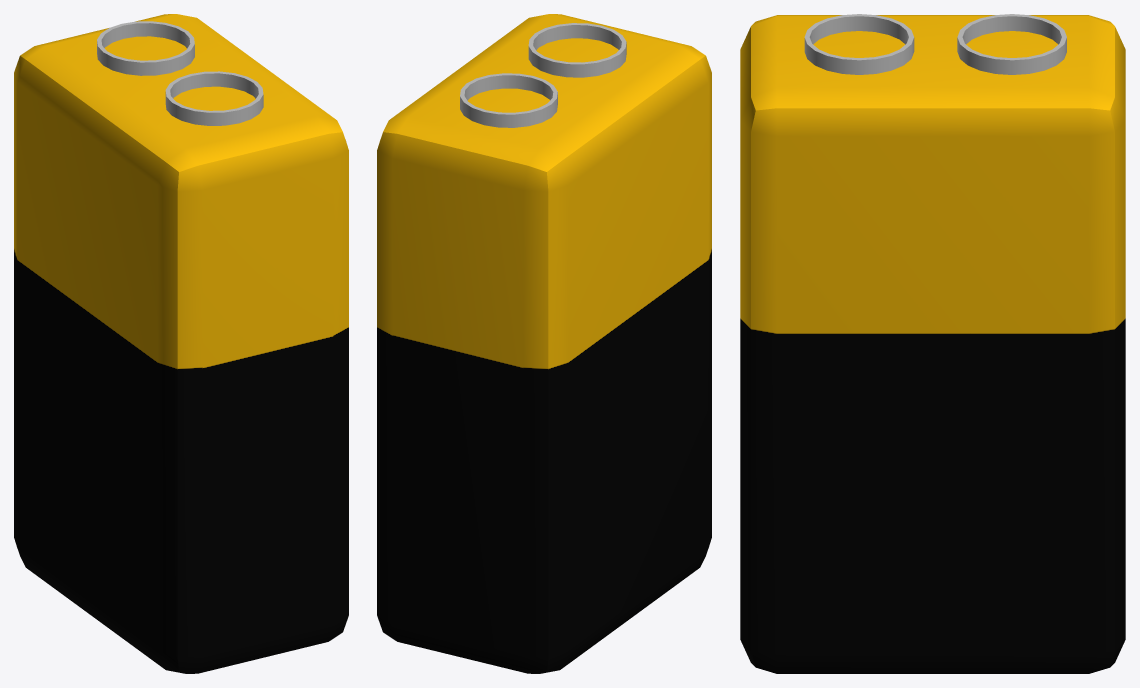
Rendered from battery.fbx.
The picture shows the model from 3 angles, left to right: view 1: azimuth 30°, elevation 25°; view 2: azimuth 150°, elevation 25°; view 3: azimuth 270°, elevation 25°; orthographic projection. The views are drawn at different scales.
Visible parts, largest first — view 1: polySurface3, polySurface1, polySurface2; view 2: polySurface3, polySurface2, polySurface1; view 3: polySurface3, polySurface2, polySurface1.
Boxes of the visible parts, x1,y1,x2,y2 form: polySurface3: (14,14,348,673); polySurface1: (97,21,194,75); polySurface2: (165,71,263,125); polySurface3: (377,14,711,673); polySurface2: (528,23,626,77); polySurface1: (460,73,557,127); polySurface3: (740,15,1125,673); polySurface2: (804,14,914,74); polySurface1: (957,14,1066,74).
Size of the model in its own units: 0.511 by 1.4 by 0.8147.
2 materials, 1 textured.
